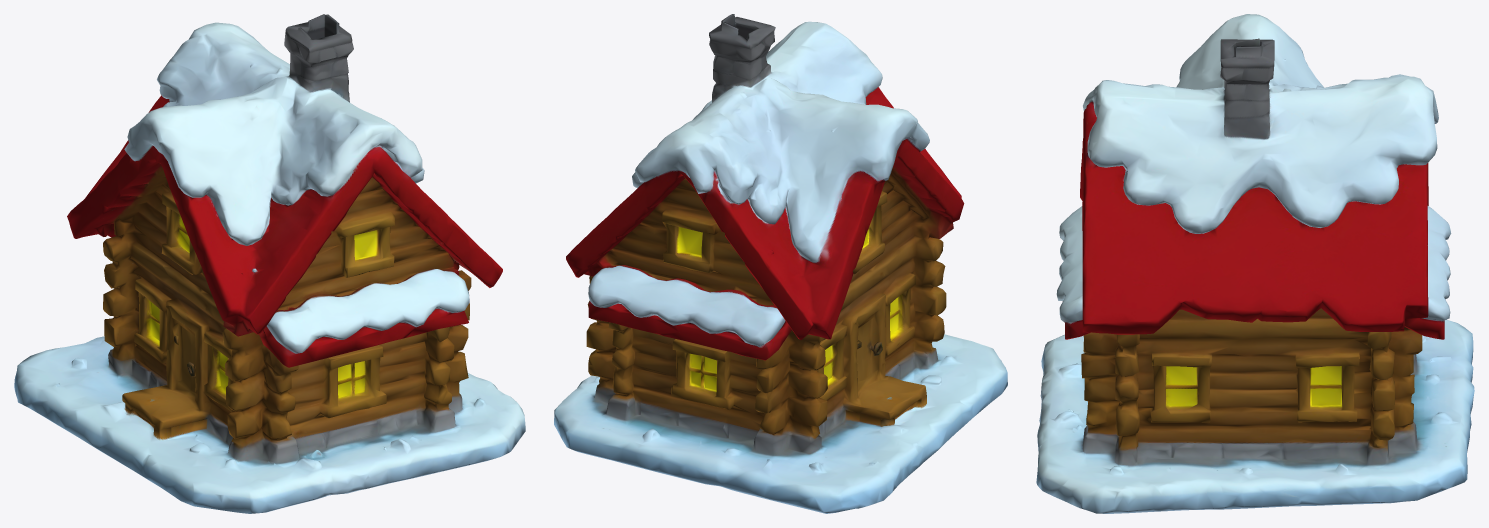
File: lapland_cabin_raw.glb
3 views of the same model, side by side, from view 1: azimuth 30°, elevation 25°; view 2: azimuth 150°, elevation 25°; view 3: azimuth 270°, elevation 25° (orthographic). The views are drawn at different scales.
Parts seen in each view (by area): view 1: tripo_node_385f581a-23df-4d75-936d-5e49b729e806; view 2: tripo_node_385f581a-23df-4d75-936d-5e49b729e806; view 3: tripo_node_385f581a-23df-4d75-936d-5e49b729e806.
Part boxes in pixels (x1,y1,x2,y2): tripo_node_385f581a-23df-4d75-936d-5e49b729e806: [14, 14, 525, 513]; tripo_node_385f581a-23df-4d75-936d-5e49b729e806: [554, 14, 1007, 513]; tripo_node_385f581a-23df-4d75-936d-5e49b729e806: [1036, 14, 1474, 513].
Bounding box in the file's own units: 0.977 × 1 × 0.9741.
Materials: 1 (1 with a texture image).
